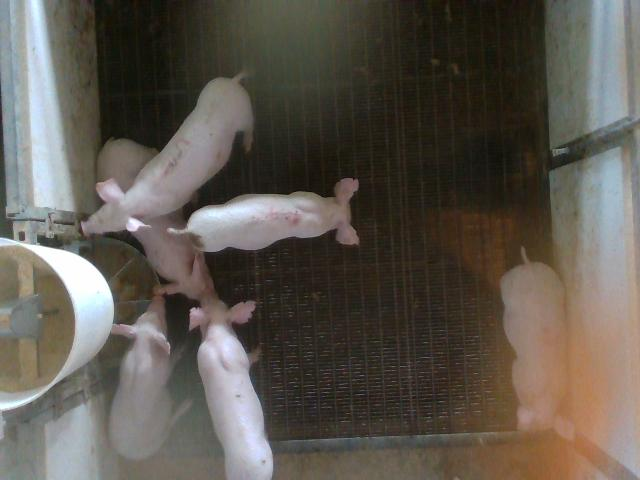pig-3: (82, 75, 254, 234)
pig-4: (500, 248, 574, 439)
pig-5: (169, 179, 359, 251)
